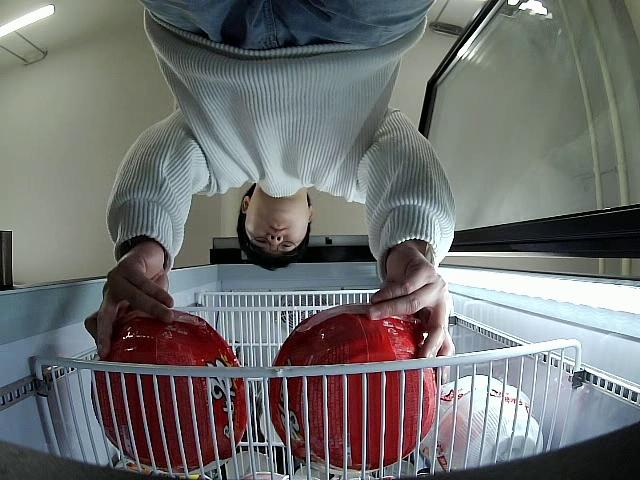00_hand: (369, 250, 455, 359), (83, 255, 172, 359)
10_wangTtukkeong: (269, 303, 437, 472), (93, 311, 247, 471)
